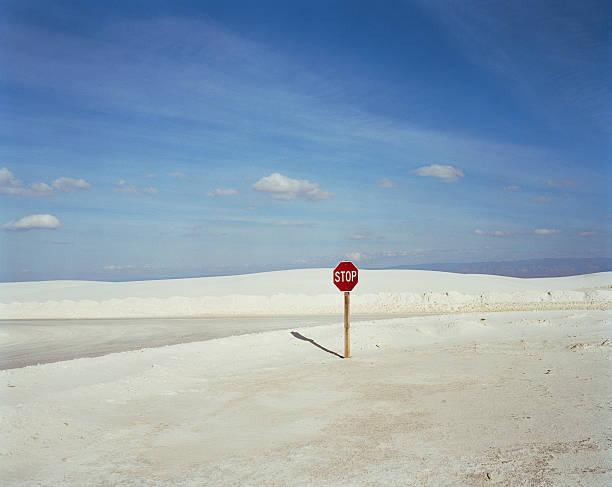Pole: (344, 291, 351, 356)
Sign: (332, 262, 358, 291)
